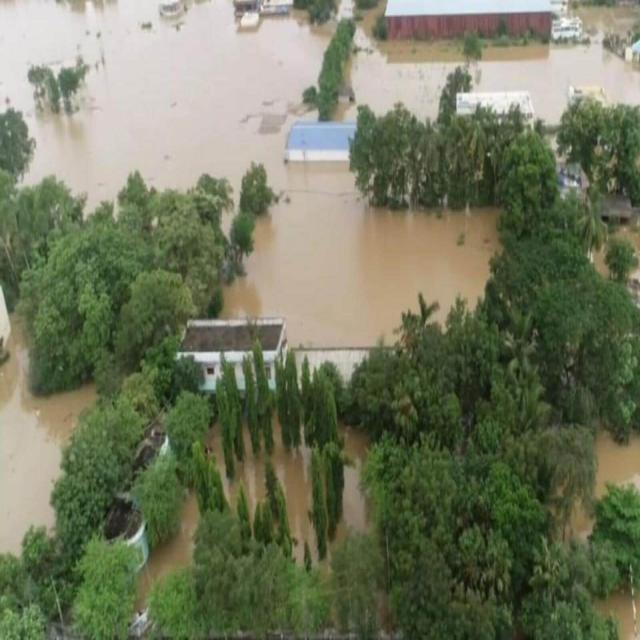flood: (0, 0, 498, 352), (0, 303, 89, 556), (474, 45, 640, 125), (346, 17, 467, 121), (271, 451, 318, 568), (142, 498, 199, 594), (343, 430, 368, 530), (598, 435, 640, 485), (611, 596, 640, 640), (246, 456, 269, 509)
house: (180, 310, 290, 403), (386, 1, 558, 42), (282, 116, 354, 168), (454, 89, 538, 117)
